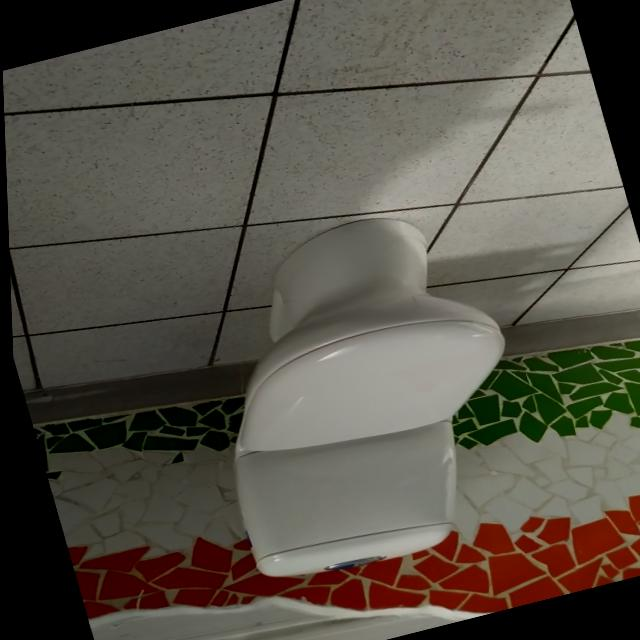toilet: (165, 194, 556, 592)
